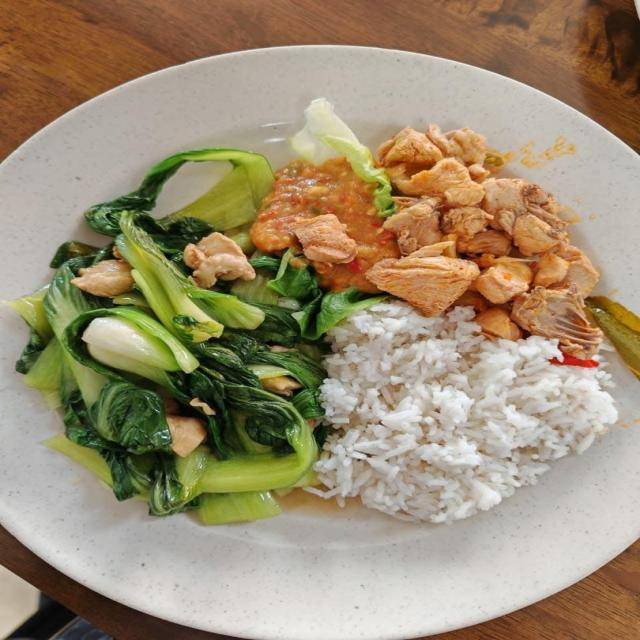Chicken: (368, 127, 599, 358)
Plate: (0, 309, 639, 639)
Rice: (307, 303, 615, 525)
Vegetables: (5, 152, 388, 524)
